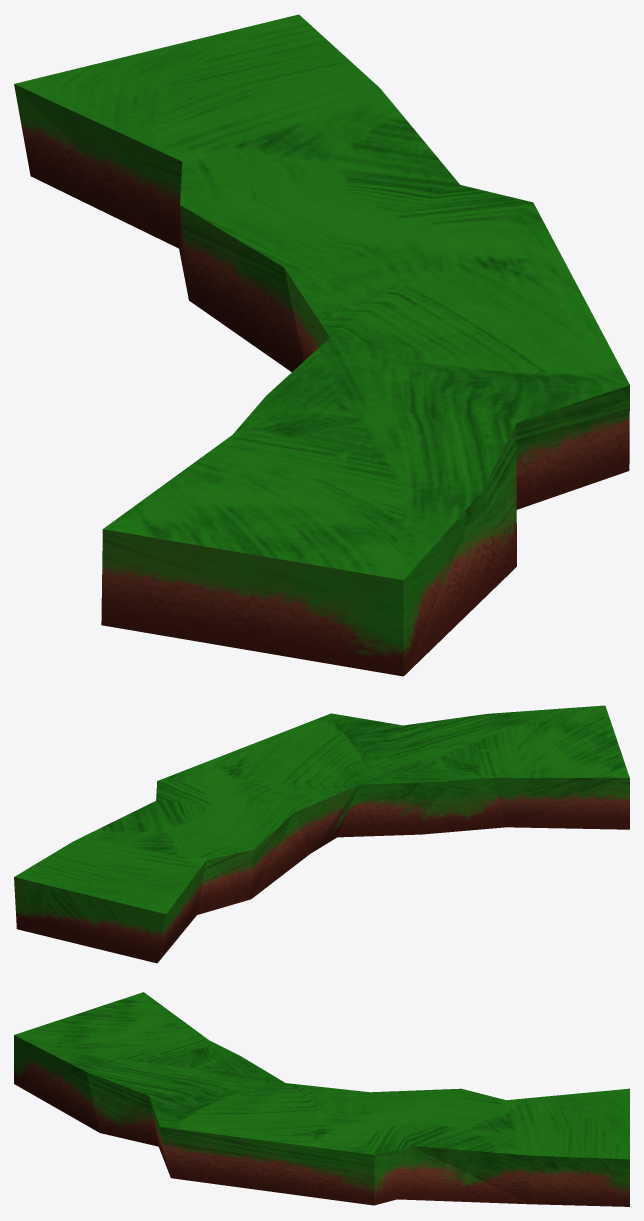
The model's file is LandBridge.001.fbx.
3 views of the same model, one above another, from view 1: azimuth 30°, elevation 25°; view 2: azimuth 150°, elevation 25°; view 3: azimuth 270°, elevation 25° (orthographic). The views are drawn at different scales.
Visible parts, largest first — view 1: LandBridge.001; view 2: LandBridge.001; view 3: LandBridge.001.
Boxes of the visible parts, x1=… form: LandBridge.001: x1=14, y1=14, x2=629, y2=676; LandBridge.001: x1=14, y1=705, x2=629, y2=963; LandBridge.001: x1=14, y1=992, x2=629, y2=1206.
Size of the model in its own units: 1074 by 146 by 1669.
